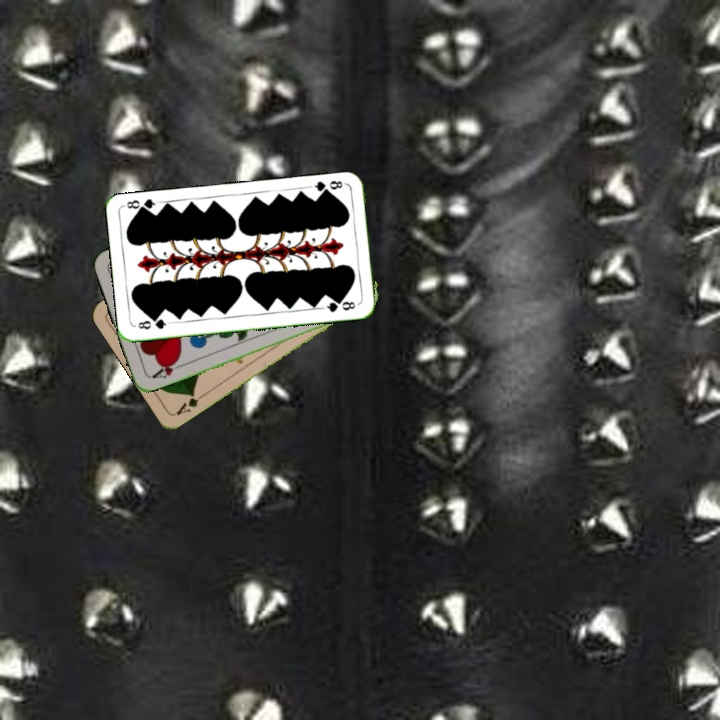G8: (308, 177, 348, 197), (134, 315, 173, 332)
GA: (172, 389, 207, 418)
HA: (148, 356, 186, 381)
